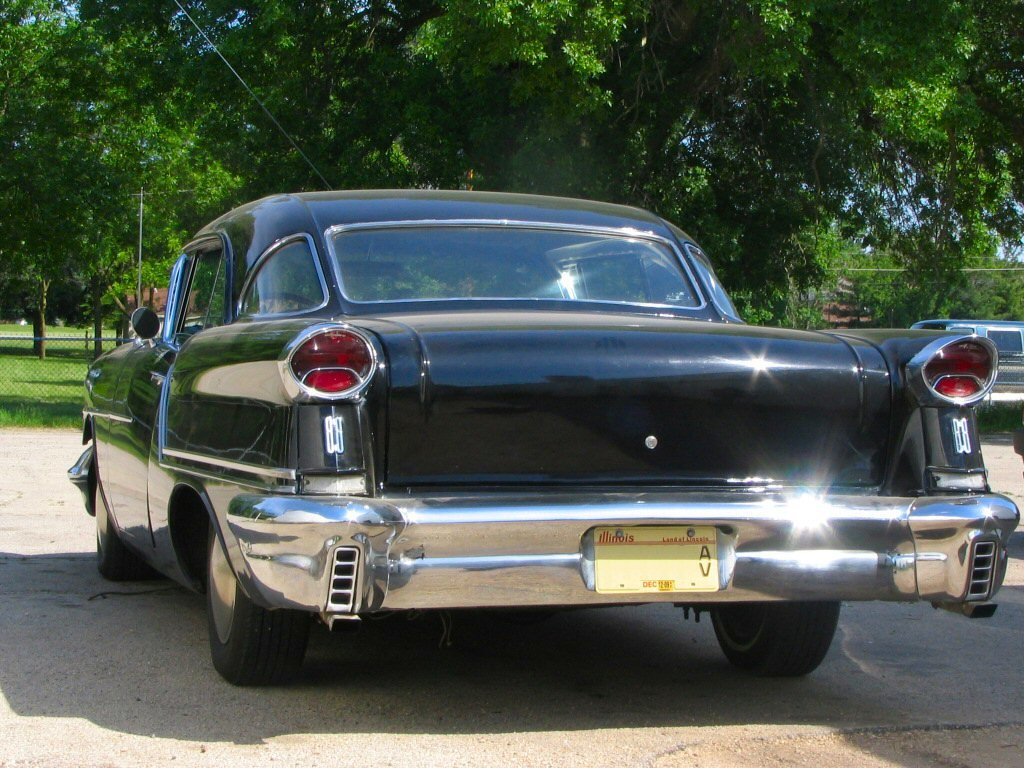Car: (64, 188, 1020, 688)
